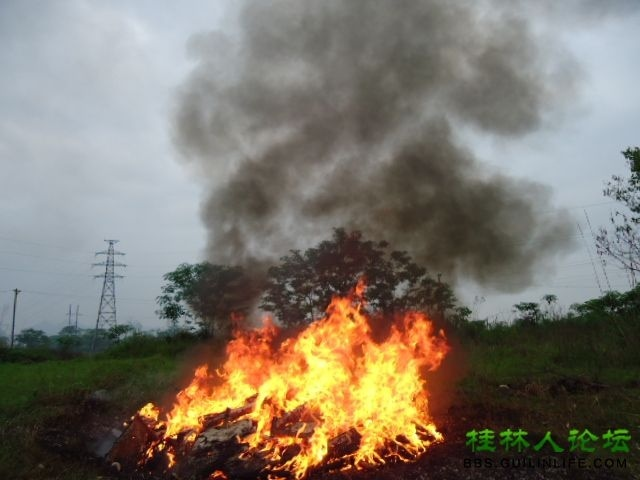fire: (132, 276, 450, 474)
